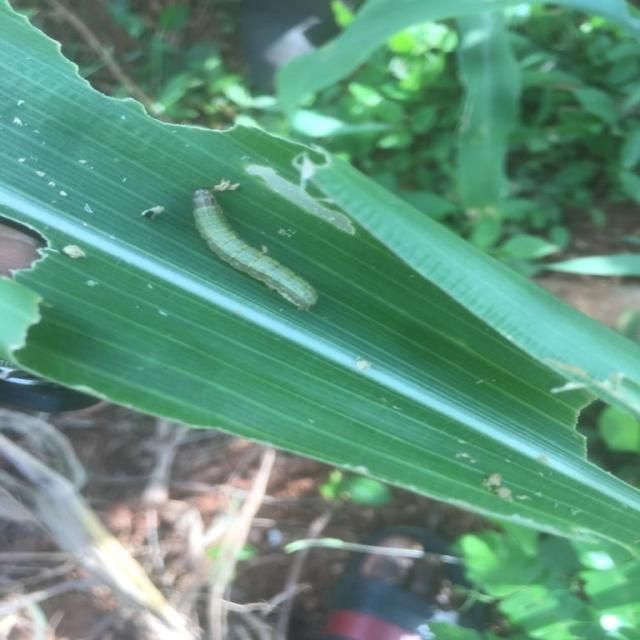yellow-stem-borer-larva: (177, 178, 343, 332)
